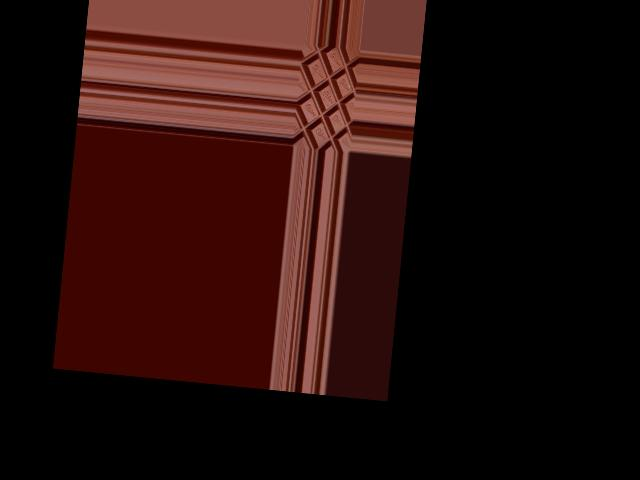chocolate: (291, 44, 358, 149)
